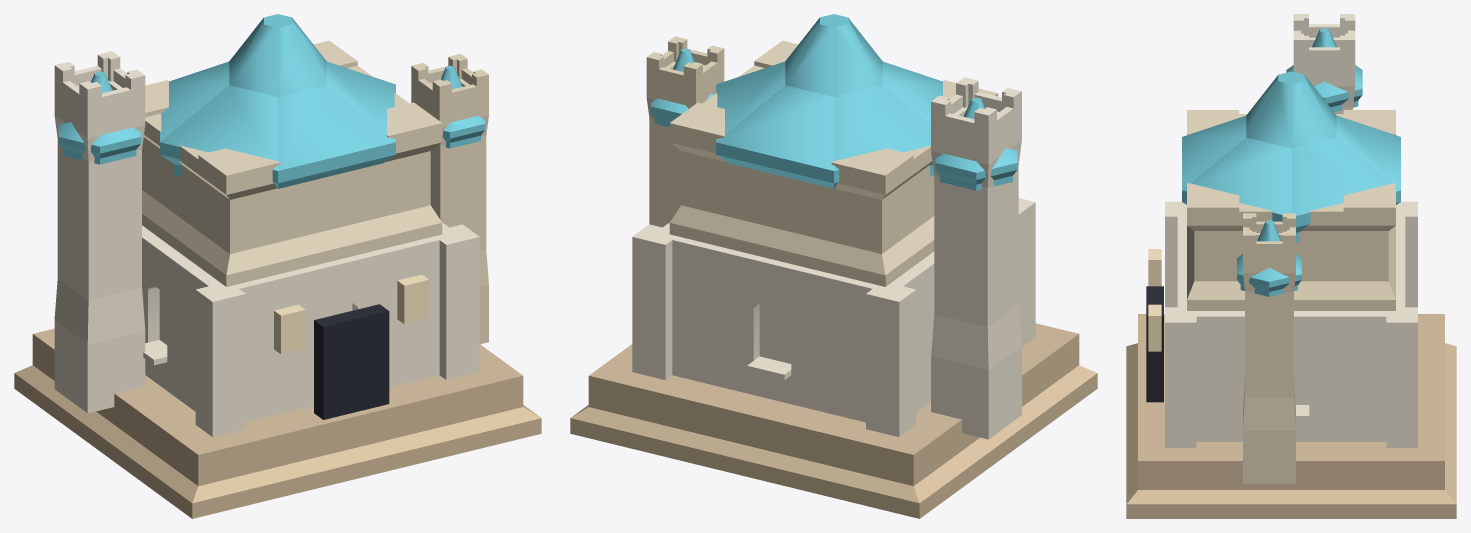
The model's file is middle_eastern-keep.glb.
3 renders of one model, left to right at view 1: azimuth 30°, elevation 25°; view 2: azimuth 150°, elevation 25°; view 3: azimuth 270°, elevation 25°, orthographic. The views are drawn at different scales.
Visible parts, largest first — view 1: body, glow; view 2: body; view 3: body, glow.
Part boxes in pixels (x1,y1,x2,y2): body: [14, 14, 541, 518]; glow: [274, 274, 428, 354]; body: [570, 14, 1097, 518]; body: [1126, 14, 1456, 518]; glow: [1148, 249, 1161, 351].
Size of the model in its own units: 1.93 by 1.82 by 1.5.
